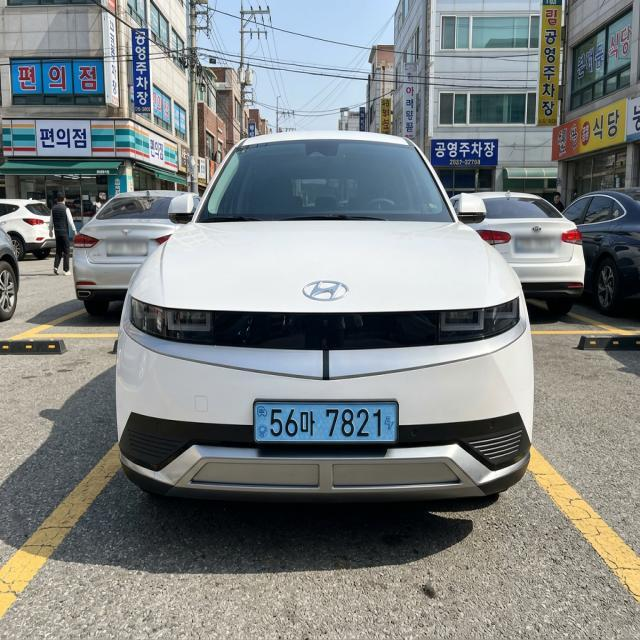car: (236, 390, 415, 465)
carev: (250, 396, 268, 452), (380, 399, 399, 452)
